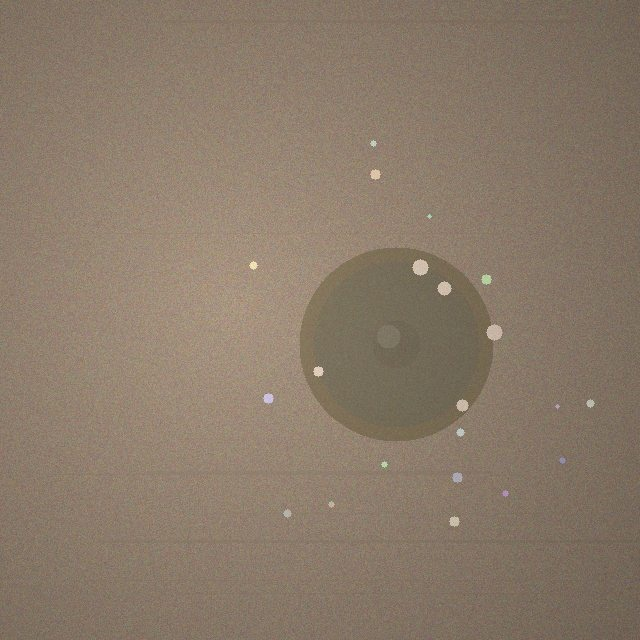overburn: (299, 247, 493, 441)
